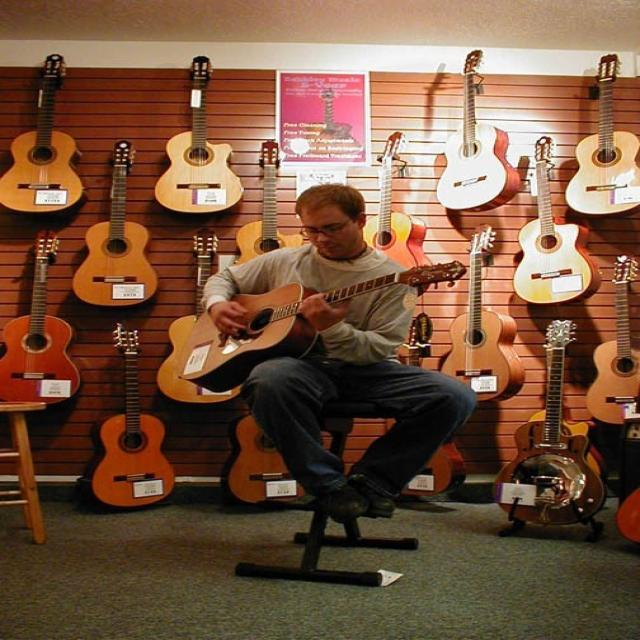guitar: (175, 262, 462, 389), (495, 316, 601, 527), (88, 322, 177, 514), (156, 226, 246, 402), (152, 54, 245, 217), (70, 139, 159, 308), (514, 134, 601, 306), (1, 231, 82, 413), (436, 48, 523, 212), (1, 53, 86, 218), (390, 318, 466, 502), (448, 223, 526, 402), (562, 52, 640, 218), (361, 126, 436, 276), (584, 255, 640, 420), (235, 139, 304, 270), (219, 408, 308, 508), (300, 84, 360, 161)
